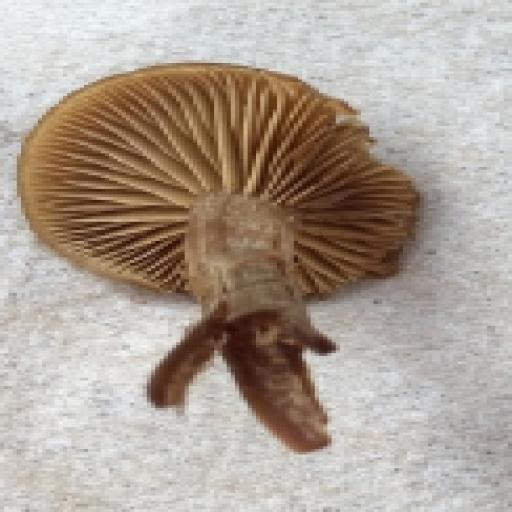mushroom: (20, 59, 424, 449)
